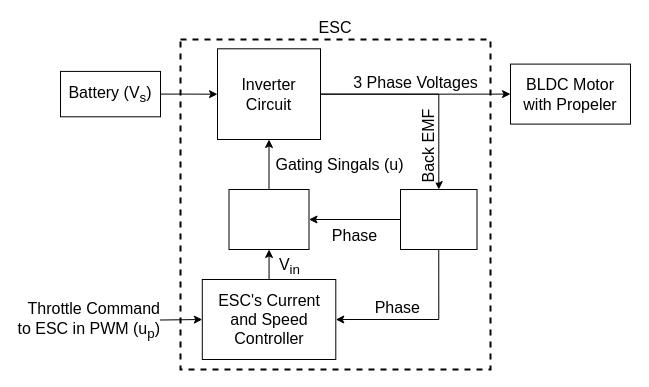
The diagram is 649 pixels wide and 387 high, and some of its shapes have lost their labels. The shapes that lost their labels are listed below. From the top down, each one's centre as x and y in pixels, then its label:
At (268,219): "PWM Generator".
At (438,219): "EMF Detection Circuit".
